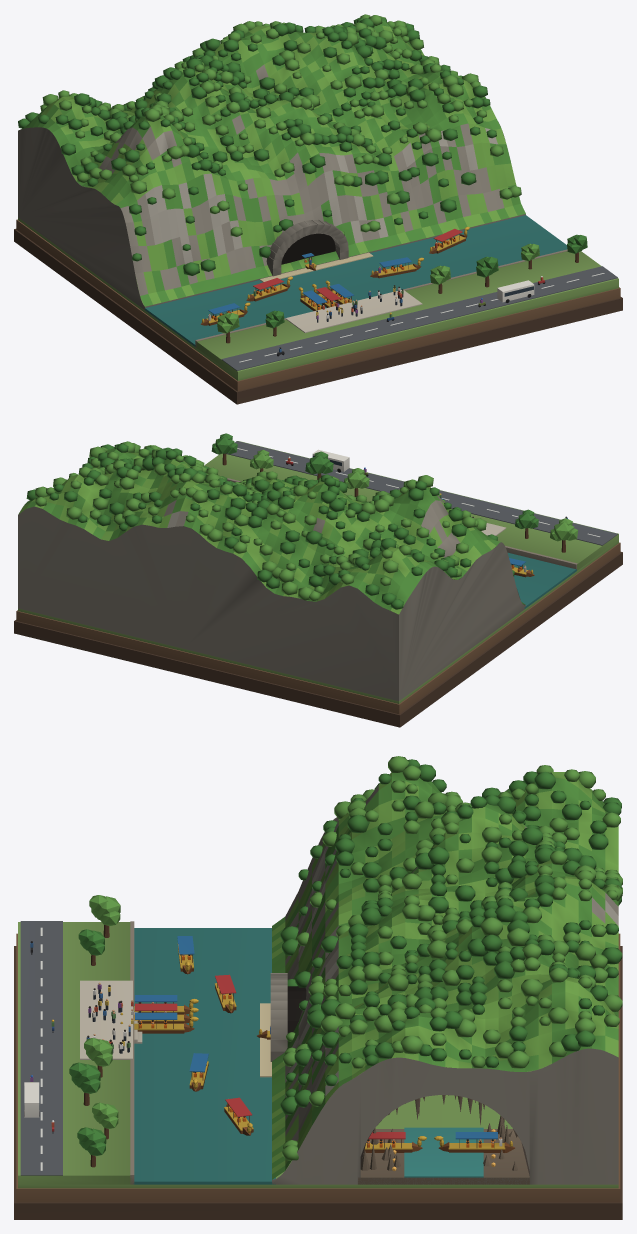
The model's file is phong-nha-ke-bang.glb.
3 renders of one model, top to bottom at view 1: azimuth 30°, elevation 25°; view 2: azimuth 150°, elevation 25°; view 3: azimuth 270°, elevation 25°, orthographic. The views are drawn at different scales.
Parts seen in each view (by area): view 1: PN_p_HC_bike_2E2E30; view 2: PN_p_HC_bike_2E2E30; view 3: PN_p_HC_bike_2E2E30.
Part boxes in pixels (box(x1,y1,x2,y2)): PN_p_HC_bike_2E2E30: box(14, 14, 622, 404); PN_p_HC_bike_2E2E30: box(14, 433, 622, 727); PN_p_HC_bike_2E2E30: box(14, 756, 622, 1219).
Size of the model in its own units: 92.2 by 41.43 by 92.08.
Materials: 1 (1 with a texture image).
